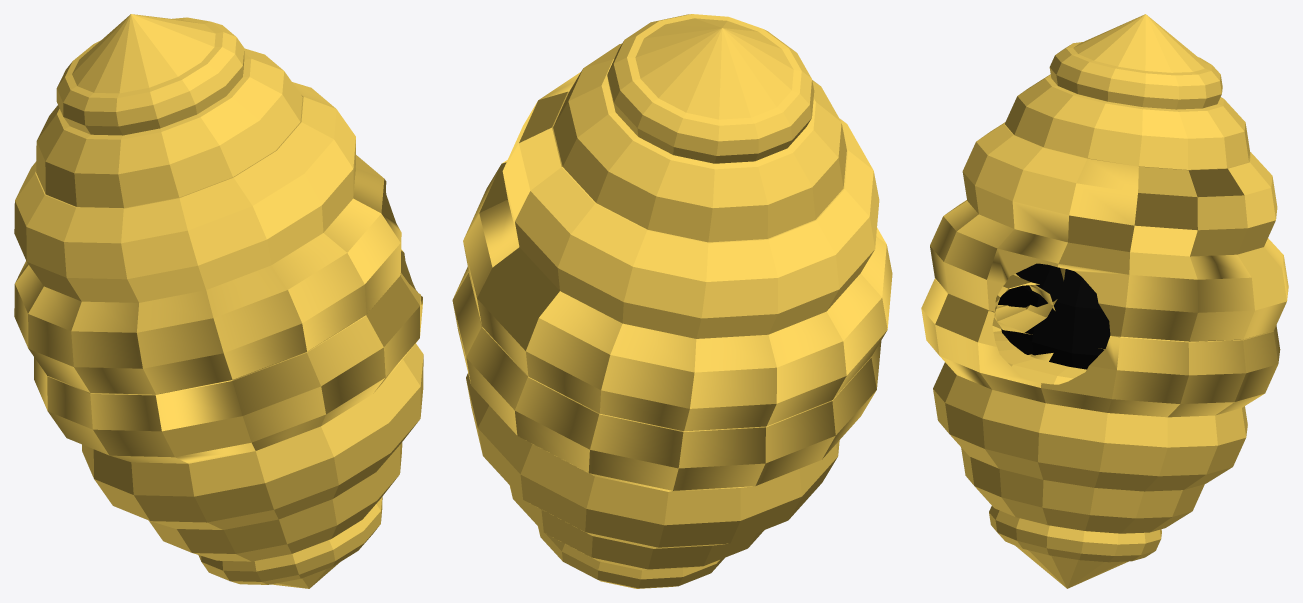
The model's file is bijenkorf.fbx.
The picture shows the model from 3 angles, left to right: view 1: azimuth 30°, elevation 25°; view 2: azimuth 150°, elevation 25°; view 3: azimuth 270°, elevation 25°; orthographic projection. The views are drawn at different scales.
Parts seen in each view (by area): view 1: Torus, Torus_1, Torus_4, Torus_5, Torus_2, Torus_3, Torus_6, Cone, Torus_7; view 2: Torus, Torus_1, Torus_2, Torus_4, Torus_5, Cone, Torus_3, Torus_6, Torus_7; view 3: Torus_1, Torus, Torus_5, Torus_4, Torus_2, Torus_6, Sphere, Torus_3, Torus_7, Cone, Cone_1.
Part boxes in pixels (x1=…): Torus: x1=14, y1=155, x2=401, y2=394; Torus_1: x1=14, y1=82, x2=355, y2=302; Torus_4: x1=34, y1=249, x2=422, y2=463; Torus_5: x1=82, y1=343, x2=423, y2=529; Torus_2: x1=36, y1=48, x2=302, y2=208; Torus_3: x1=56, y1=17, x2=244, y2=135; Torus_6: x1=149, y1=442, x2=402, y2=561; Cone: x1=72, y1=14, x2=215, y2=93; Torus_7: x1=198, y1=497, x2=382, y2=584; Torus: x1=463, y1=160, x2=892, y2=431; Torus_1: x1=502, y1=72, x2=879, y2=338; Torus_2: x1=553, y1=43, x2=846, y2=242; Torus_4: x1=452, y1=267, x2=881, y2=491; Torus_5: x1=466, y1=373, x2=839, y2=548; Cone: x1=635, y1=18, x2=793, y2=119; Torus_3: x1=607, y1=14, x2=814, y2=163; Torus_6: x1=509, y1=485, x2=764, y2=570; Torus_7: x1=538, y1=526, x2=724, y2=588; Torus_1: x1=962, y1=122, x2=1277, y2=256; Torus: x1=930, y1=200, x2=1288, y2=349; Torus_5: x1=933, y1=331, x2=1247, y2=491; Torus_4: x1=921, y1=273, x2=1280, y2=417; Torus_2: x1=1005, y1=74, x2=1250, y2=169; Torus_6: x1=961, y1=447, x2=1204, y2=533; Sphere: x1=998, y1=263, x2=1110, y2=369; Torus_3: x1=1049, y1=42, x2=1222, y2=109; Torus_7: x1=989, y1=506, x2=1161, y2=562; Cone: x1=1073, y1=14, x2=1205, y2=72; Cone_1: x1=1016, y1=546, x2=1128, y2=588.
Size of the model in its own units: 53.31 by 82.53 by 53.25.
